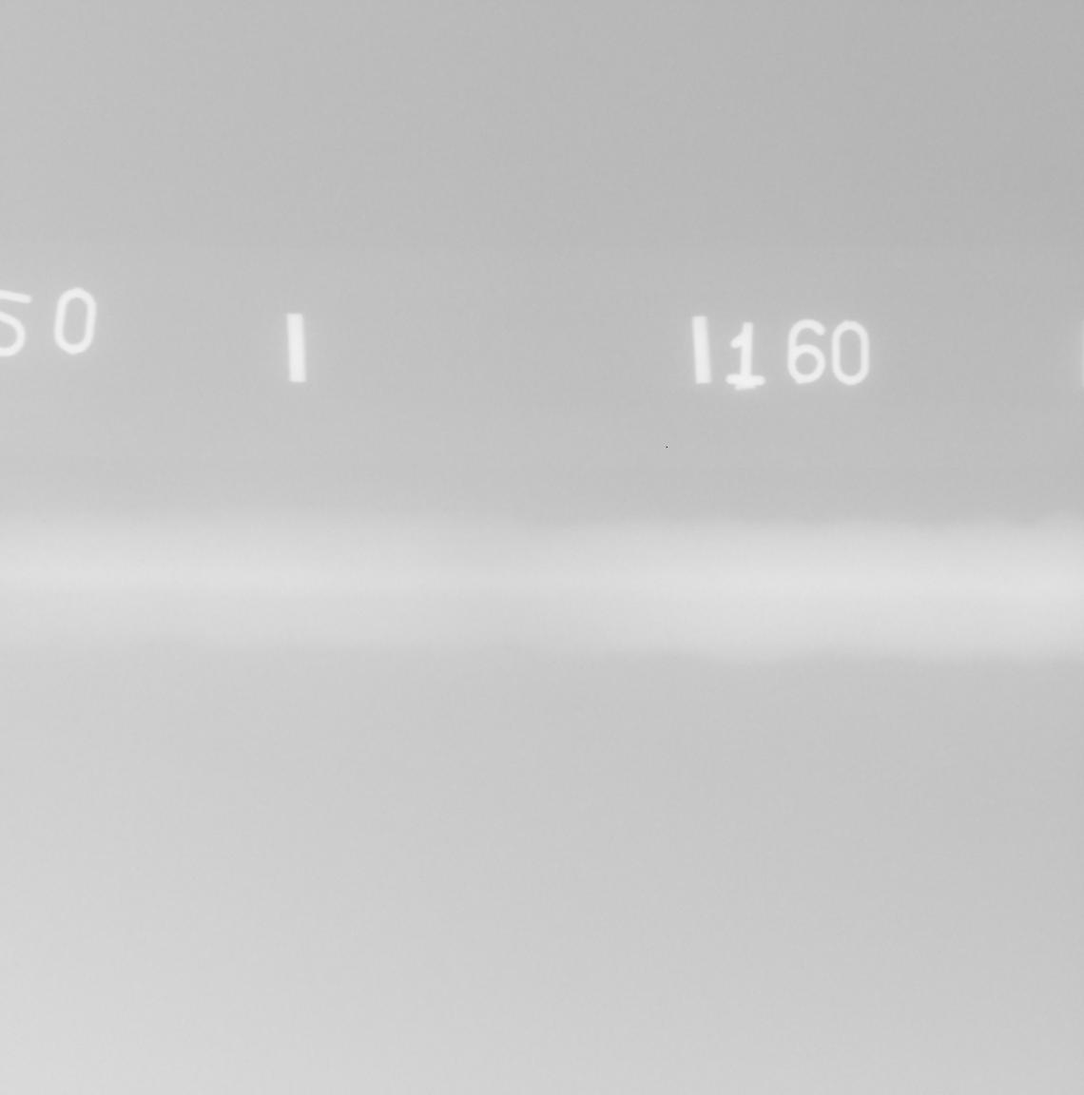Pore/Porosity: (9, 554, 15, 560), (172, 581, 177, 585)
